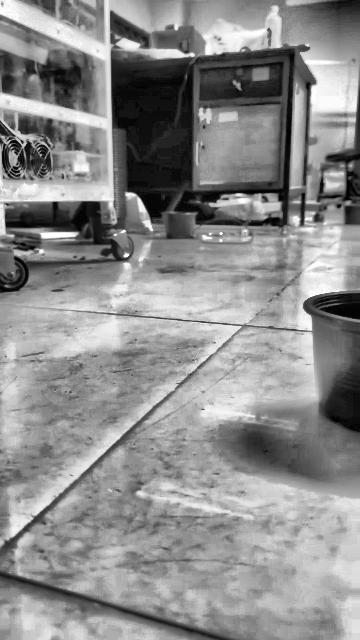pot: (303, 292, 360, 433)
